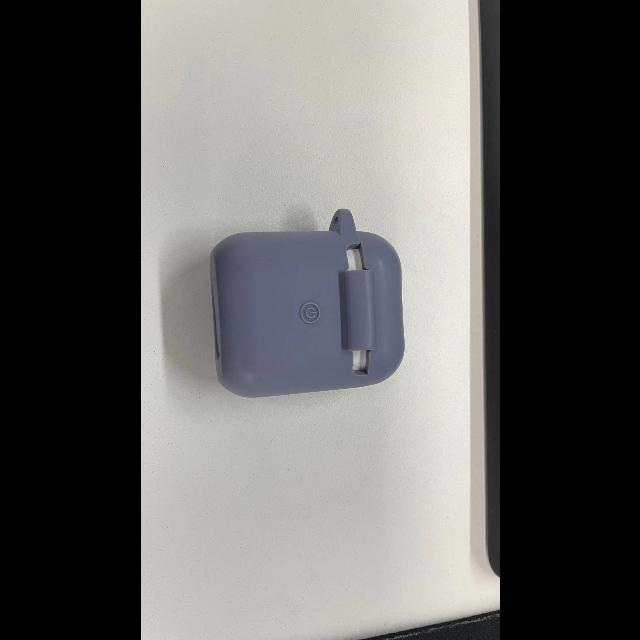airpods: (210, 205, 404, 399)
